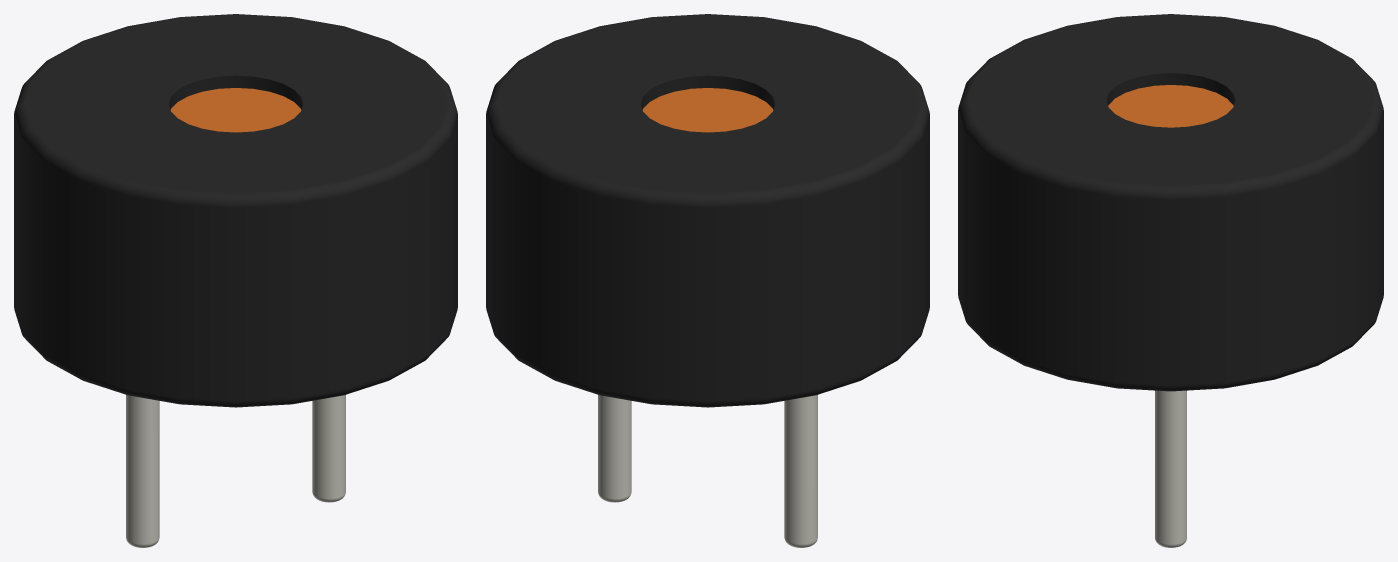
File: Buzzer_Beeper__MagneticBuzzer_Kingstate_KCG0601.glb
3 renders of one model, left to right at view 1: azimuth 30°, elevation 25°; view 2: azimuth 150°, elevation 25°; view 3: azimuth 270°, elevation 25°, orthographic. The views are drawn at different scales.
Visible parts, largest first — view 1: MagneticBuzzer_Kingstate_KCG0601; view 2: MagneticBuzzer_Kingstate_KCG0601; view 3: MagneticBuzzer_Kingstate_KCG0601.
Part boxes in pixels (bbox=[...]): MagneticBuzzer_Kingstate_KCG0601: bbox=[14, 14, 457, 547]; MagneticBuzzer_Kingstate_KCG0601: bbox=[486, 14, 929, 547]; MagneticBuzzer_Kingstate_KCG0601: bbox=[958, 14, 1383, 547].
Size of the model in its own units: 0.0066 by 0.00683 by 0.0066.
